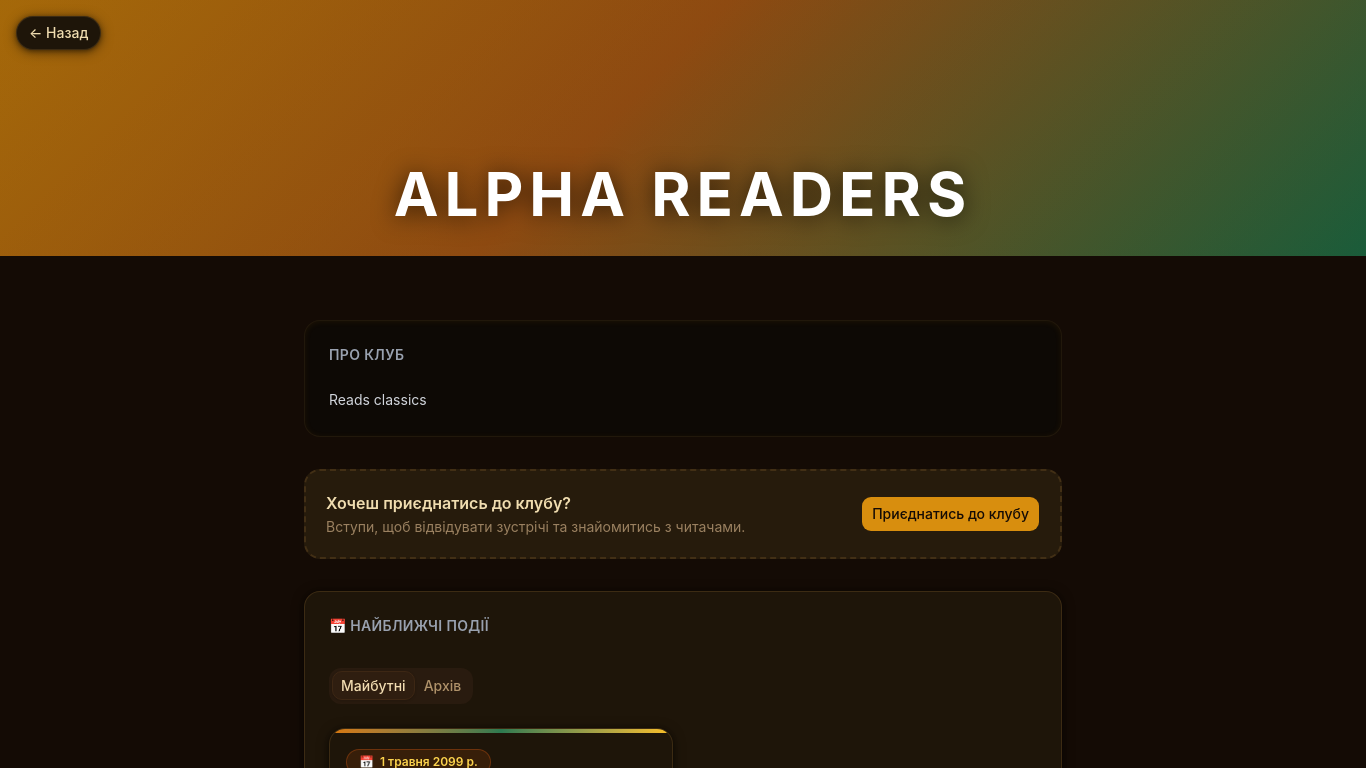
Test: signed-in non-member (also an admin, who has no special club-detail controls) › a join request is sent, the CTA turns pending and the same toast as Angular appears
Click the button with test id "join-button": x=951, y=514 [861,496,1040,532]
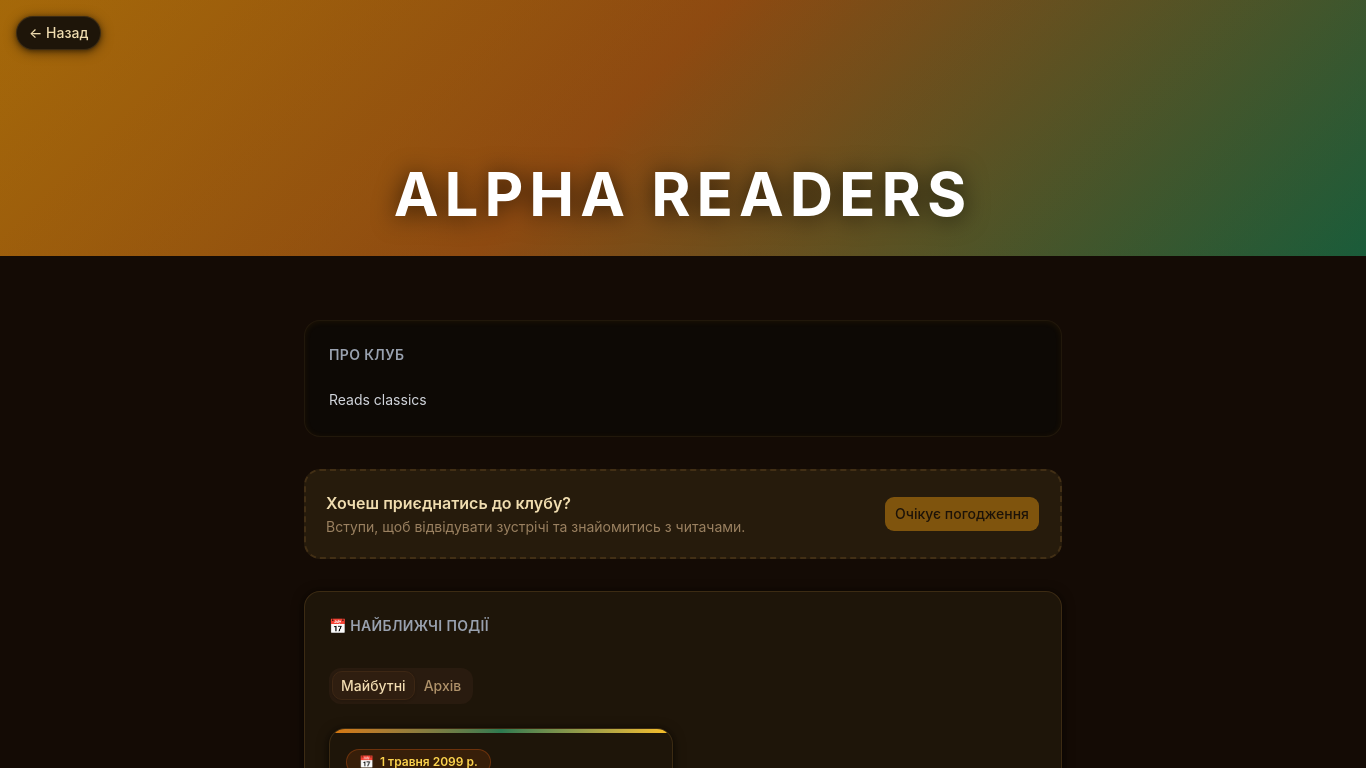
Check: the button with test id "join-pending" is disabled, box [884,496,1040,532]
Check: the button with test id "join-pending" reads "Очікує погодження", box [884,496,1040,532]
